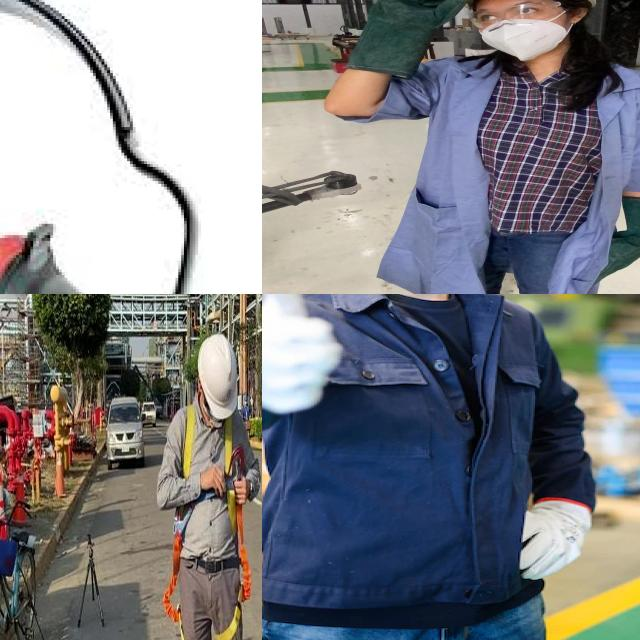Harness: (215, 417, 252, 640), (163, 505, 192, 640)
face_mask: (462, 0, 571, 63)
glasses: (462, 0, 564, 31)
hand_glove: (262, 294, 341, 414), (521, 500, 589, 579), (369, 0, 474, 34)
person: (335, 0, 640, 294)
